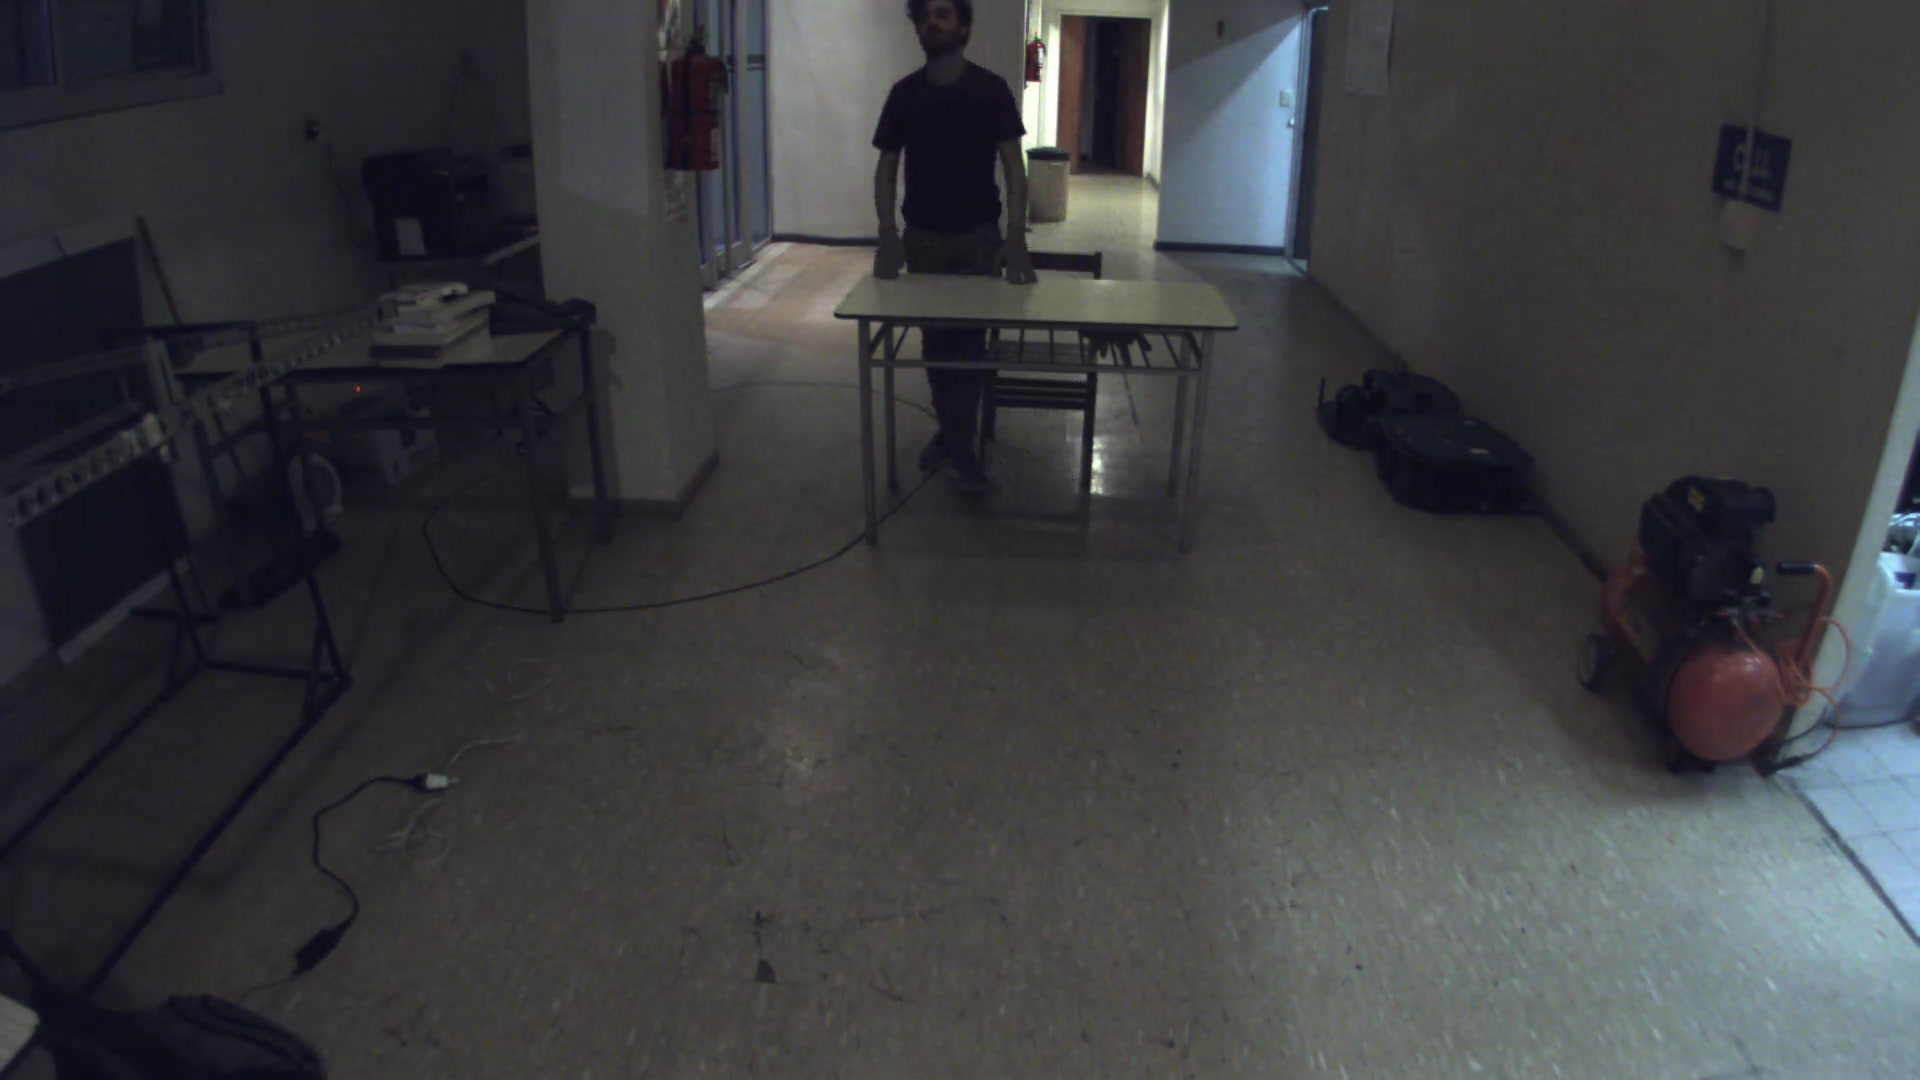hand: (982, 229, 1043, 291), (862, 225, 919, 280)
